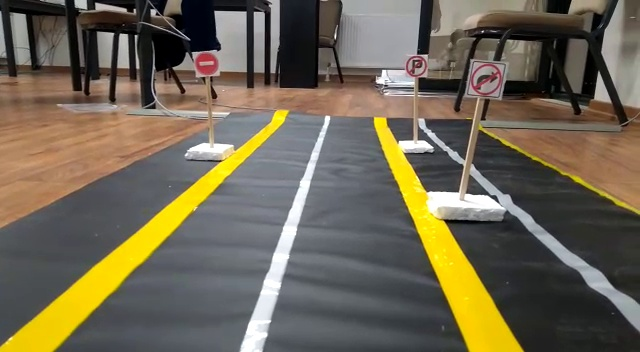girisi_olmayan_yol: (194, 52, 221, 78)
park_yapilmaz: (404, 54, 428, 76)
saga_donulmez: (466, 60, 508, 99)
